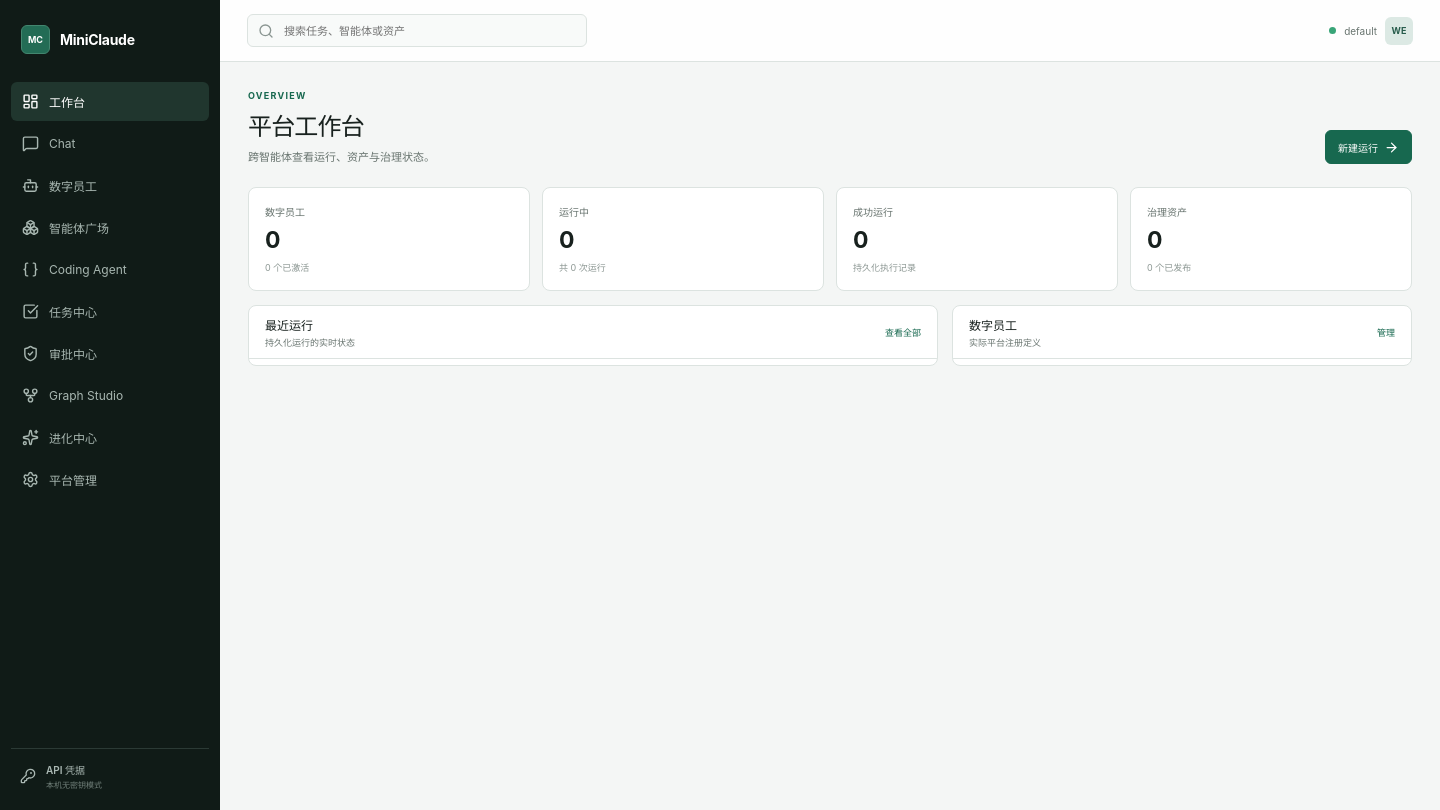
Test: App navigation › renders backend-driven dashboard and navigates to Graph Studio
Expected: the heading "平台工作台" is shown, [248,112,364,141]
# 通过可访问名称点击 NavLink，验证 client-side routing 而非 full page reload。
Click the link "Graph Studio".
click(73, 396)  # box [22,387,123,404]
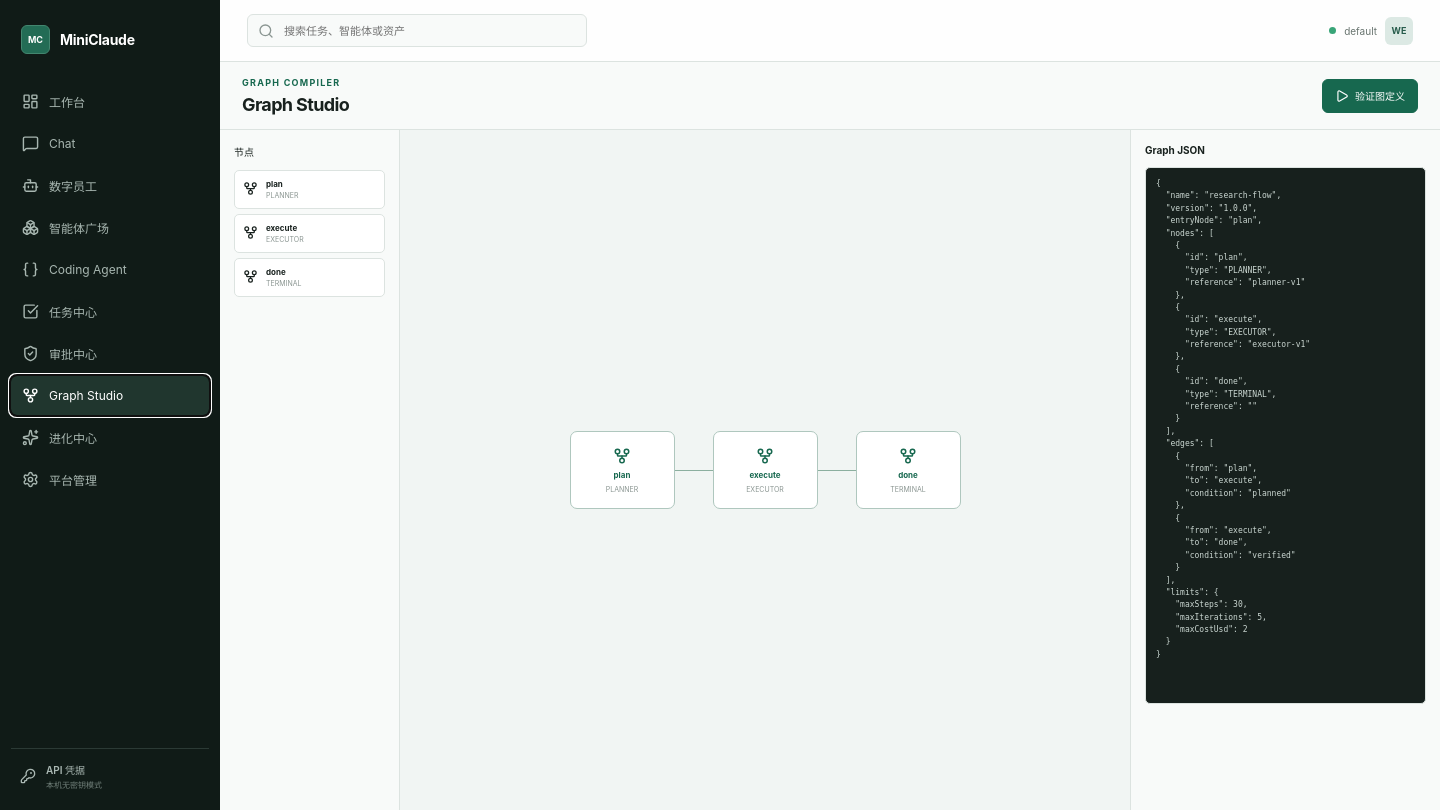
Expected: the heading "Graph Studio" is shown, [242,94,349,114]
Expected: the button "验证图定义" is shown, [1322,78,1418,112]
